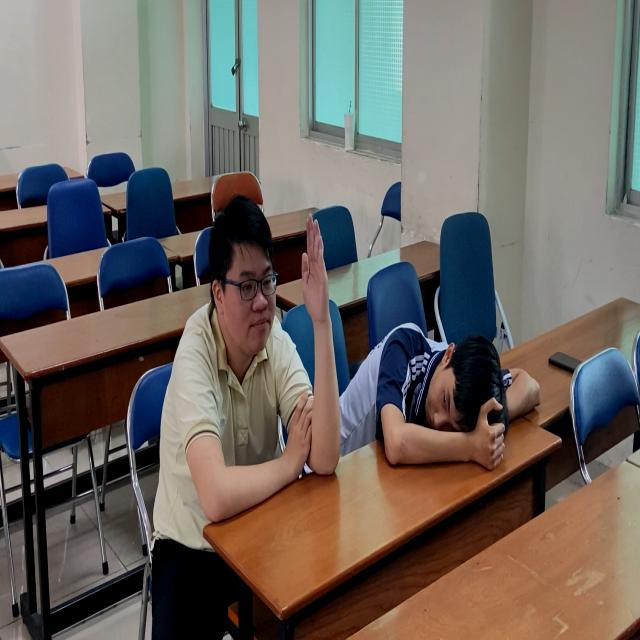raise_hand: (122, 201, 365, 551)
